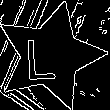L_N: (33, 30, 68, 82)
